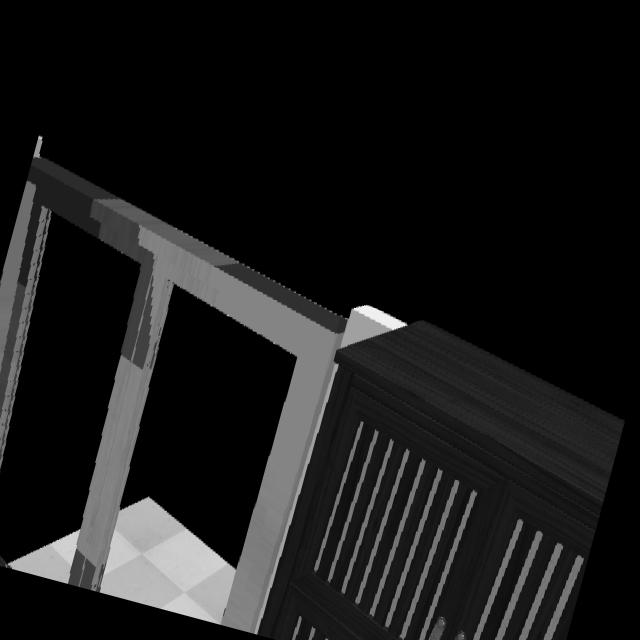wardrobe: (255, 310, 624, 640)
